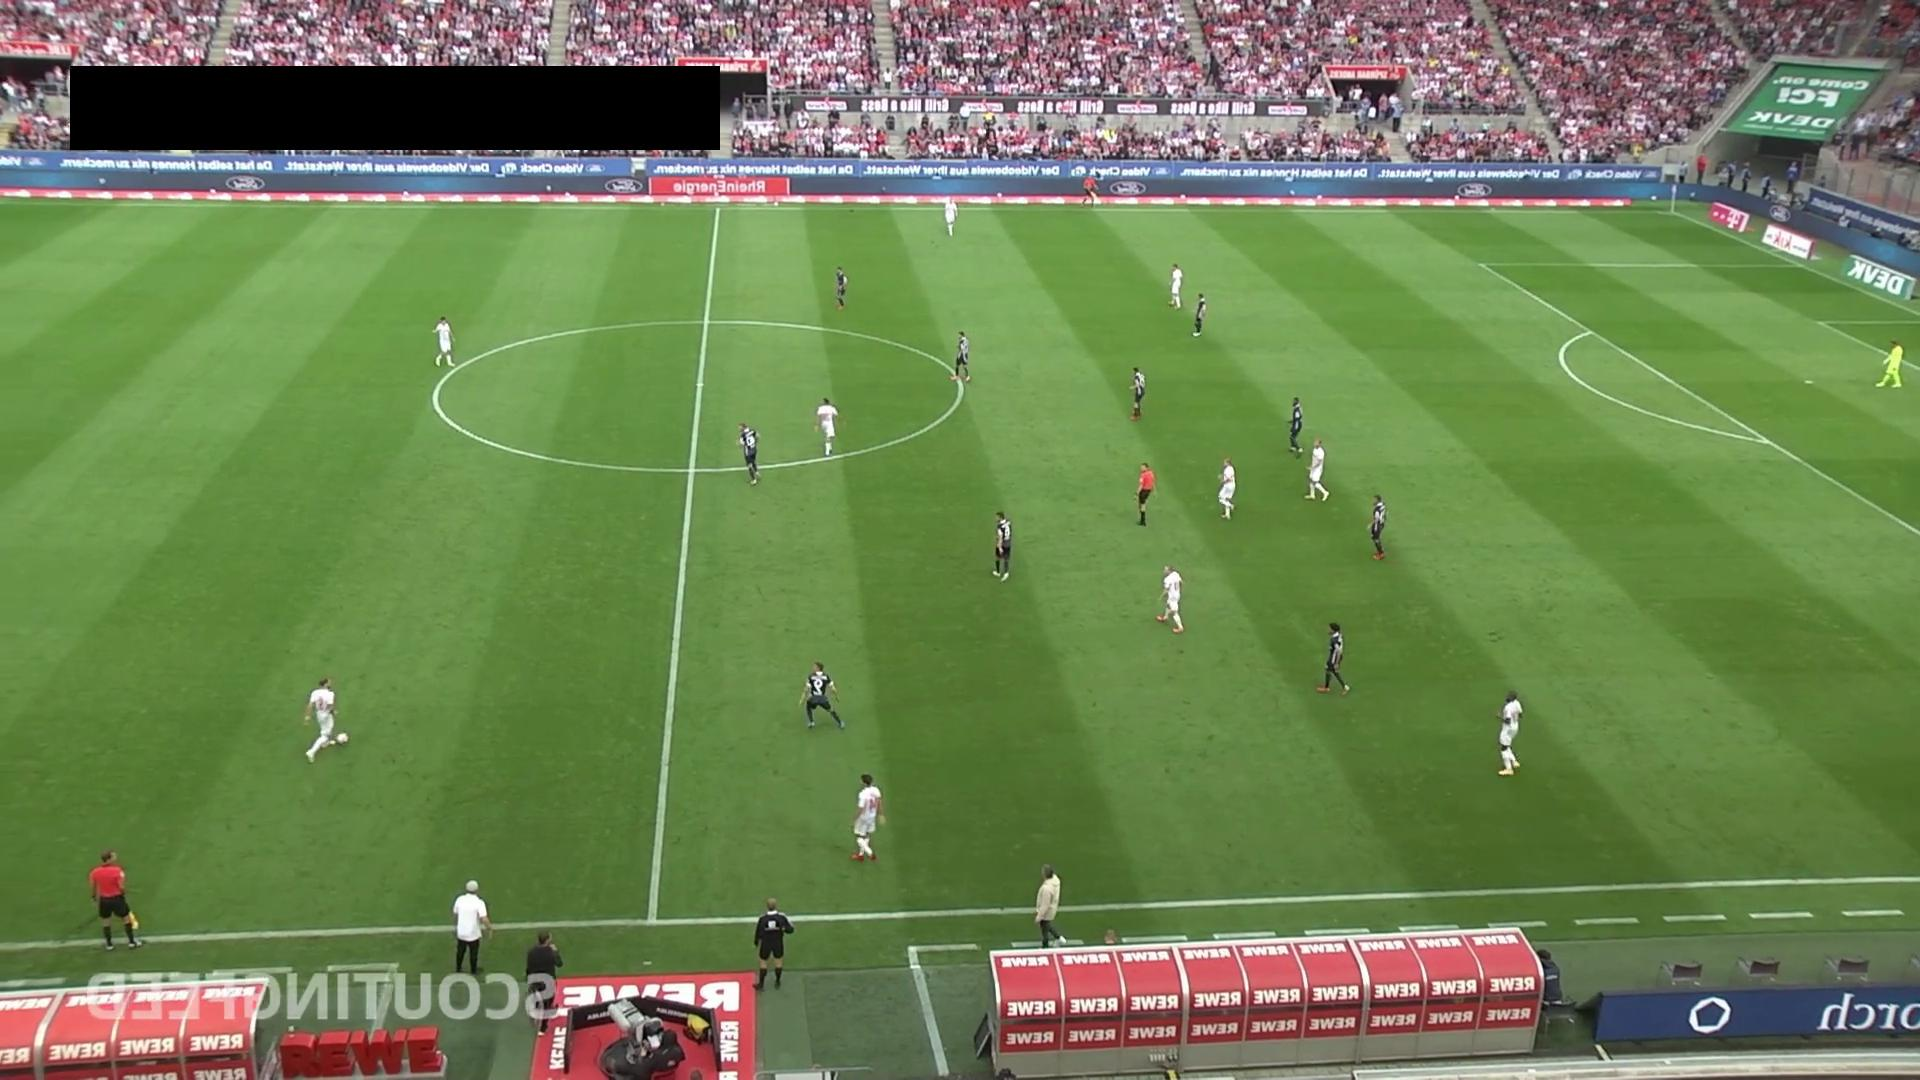ball: (333, 732, 349, 744)
goalkeeper: (1875, 339, 1904, 389)
player: (303, 675, 349, 763), (799, 661, 846, 730), (850, 772, 883, 862), (1316, 621, 1351, 696), (1497, 689, 1523, 776), (1157, 563, 1185, 633), (1304, 437, 1329, 501), (814, 396, 840, 456), (737, 422, 760, 485), (992, 510, 1012, 581), (1368, 493, 1387, 560), (432, 315, 456, 367), (1217, 456, 1236, 520), (951, 330, 972, 383), (1288, 396, 1304, 457), (1128, 366, 1146, 419), (1168, 262, 1184, 309), (1191, 292, 1207, 337), (944, 197, 958, 237), (835, 267, 848, 310)
referee: (89, 848, 143, 950), (1135, 462, 1155, 526), (1082, 173, 1101, 207)
